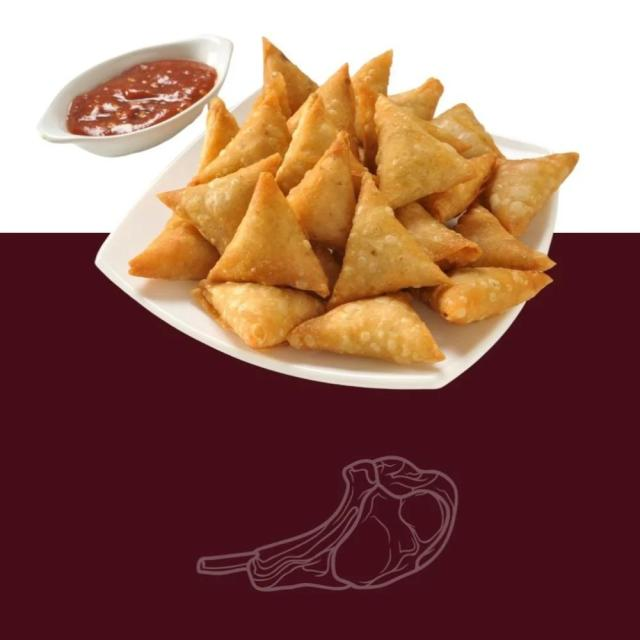Samboosa: (146, 34, 597, 400)
